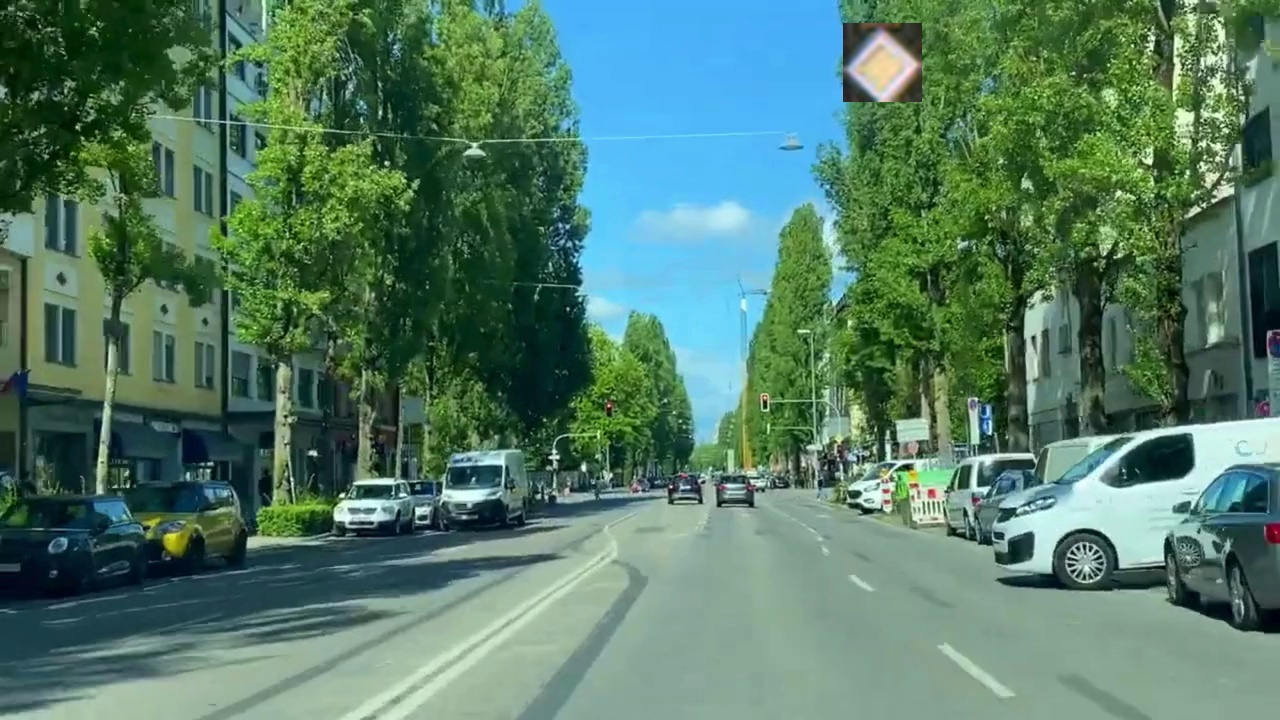Priority road: (843, 23, 922, 102)
